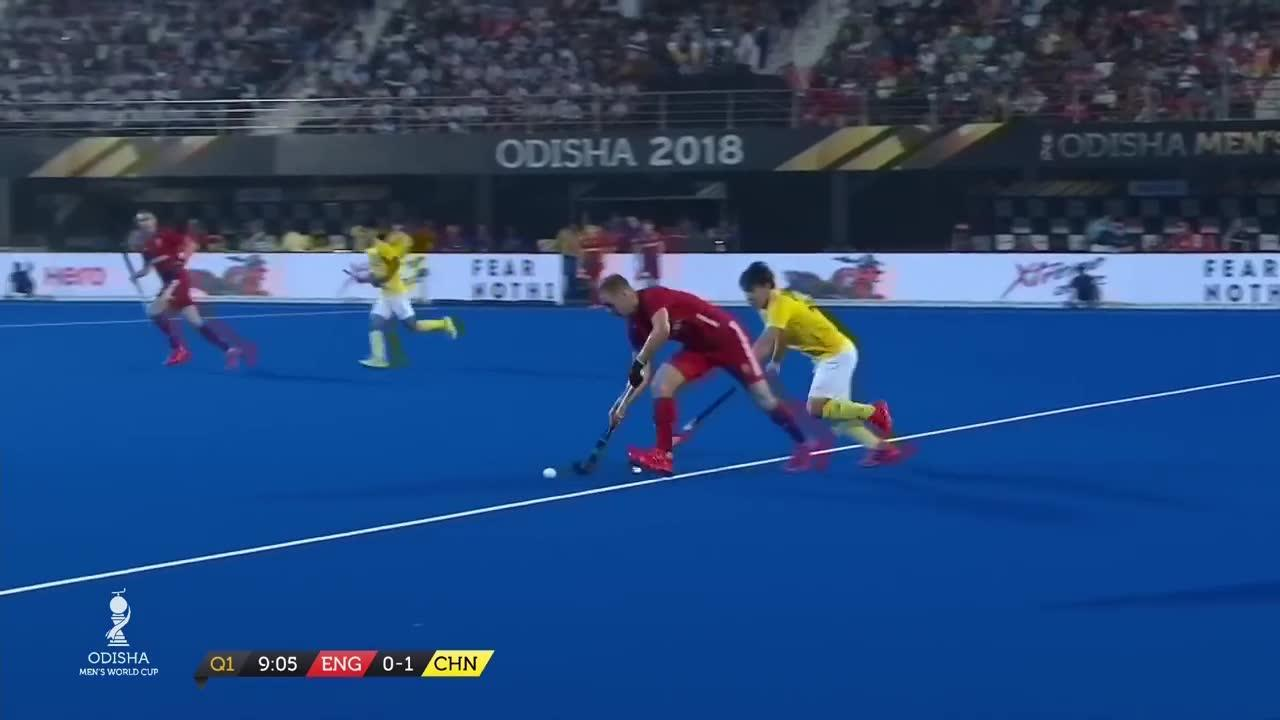ball: (540, 463, 562, 485)
